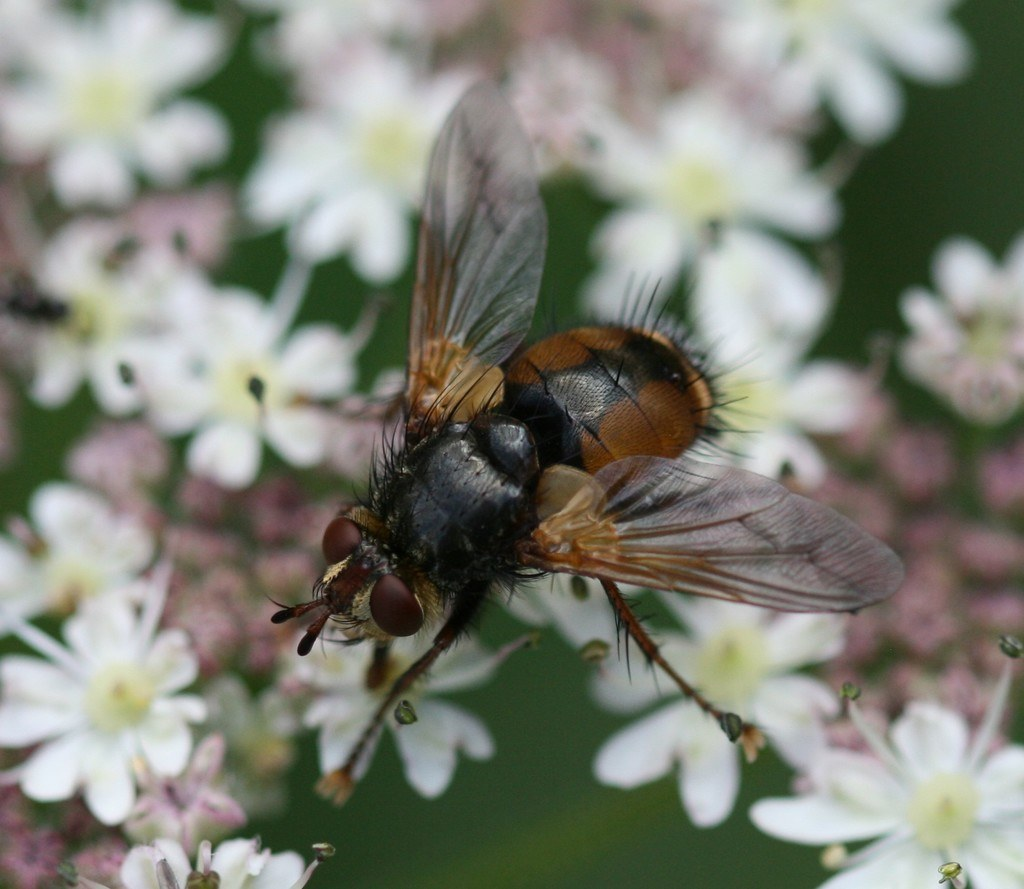bee: (246, 118, 792, 742)
